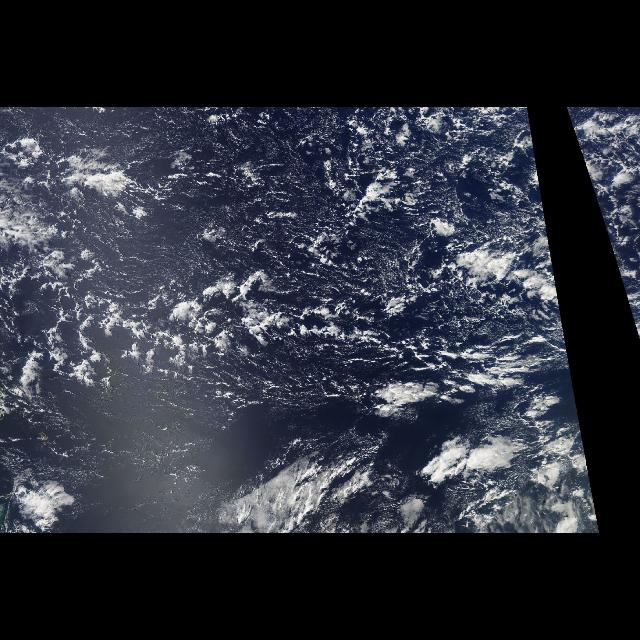Gravel: (22, 108, 564, 408)
Sugar: (100, 112, 328, 274), (35, 369, 273, 517)
